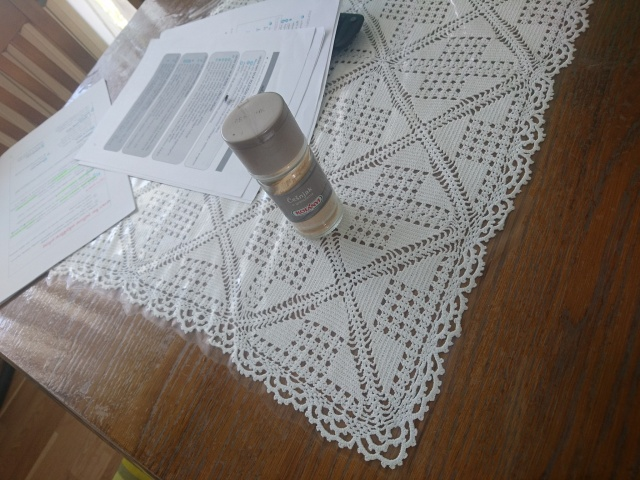Kotanyi Garlic Granules 70g: (217, 89, 347, 242)
